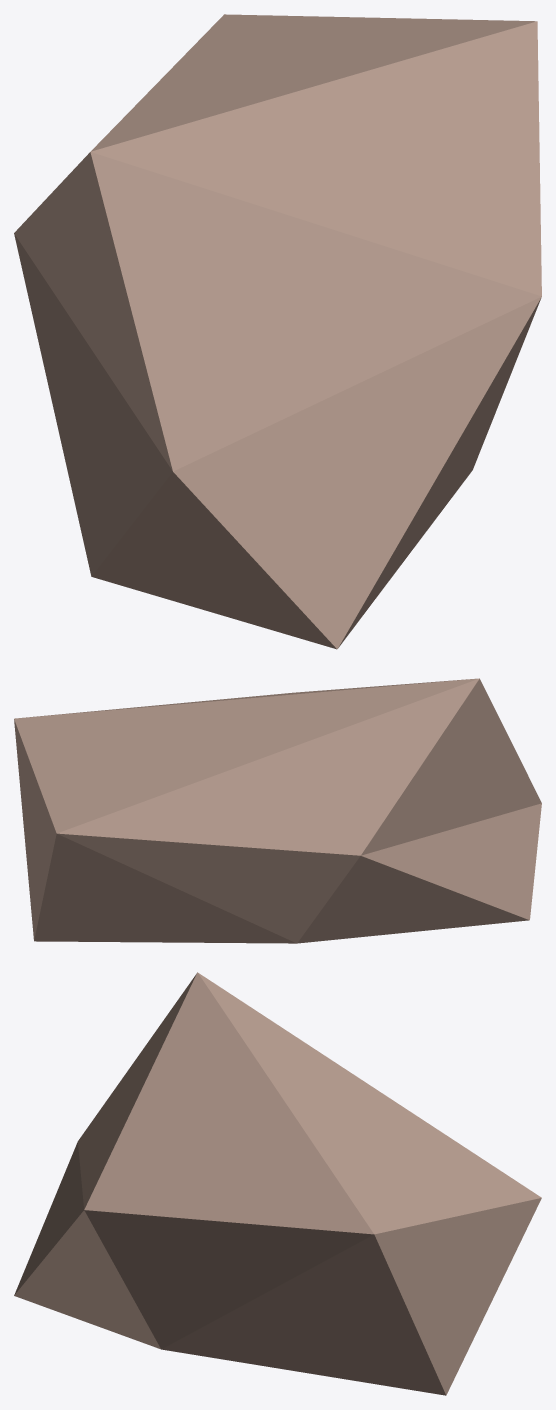
File: rock2.fbx
The picture shows the model from 3 angles, top to bottom: view 1: azimuth 30°, elevation 25°; view 2: azimuth 150°, elevation 25°; view 3: azimuth 270°, elevation 25°; orthographic projection. The views are drawn at different scales.
Parts seen in each view (by area): view 1: Rock2; view 2: Rock2; view 3: Rock2.
Part boxes in pixels (bbox=[...]): Rock2: bbox=[14, 14, 541, 649]; Rock2: bbox=[14, 678, 541, 943]; Rock2: bbox=[14, 972, 541, 1395].
Bounding box in the file's own units: 38.66 × 42.53 × 25.51.
